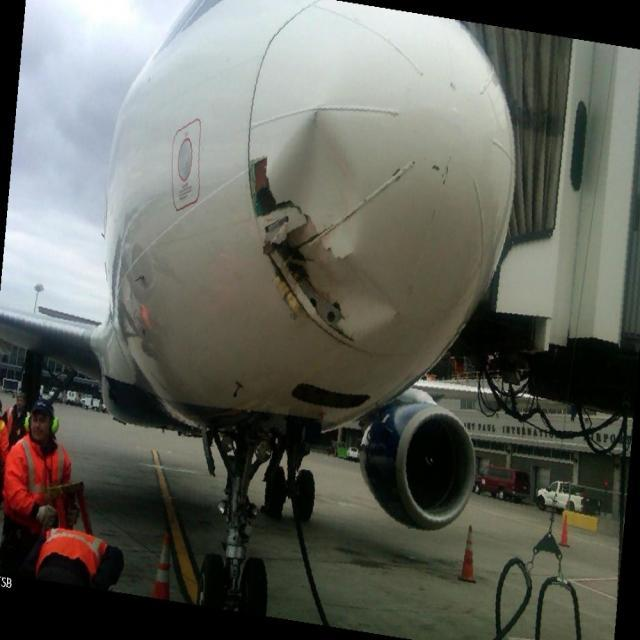dent: (270, 110, 362, 246), (338, 255, 402, 335)
